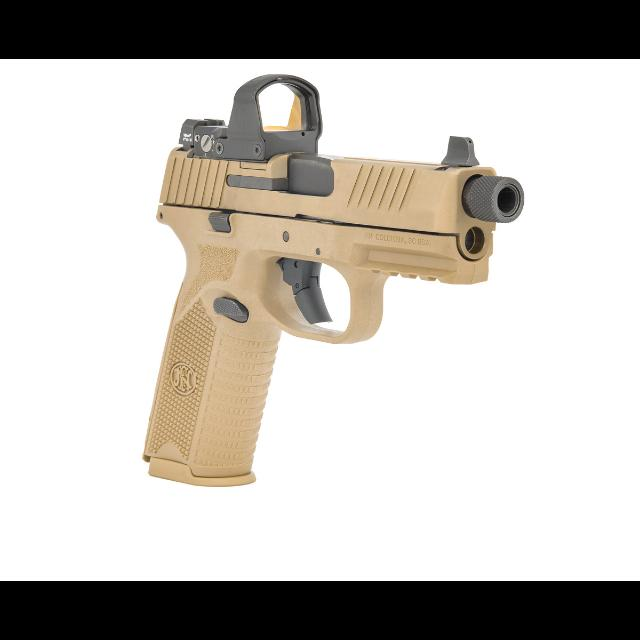handgun: (137, 67, 529, 493)
